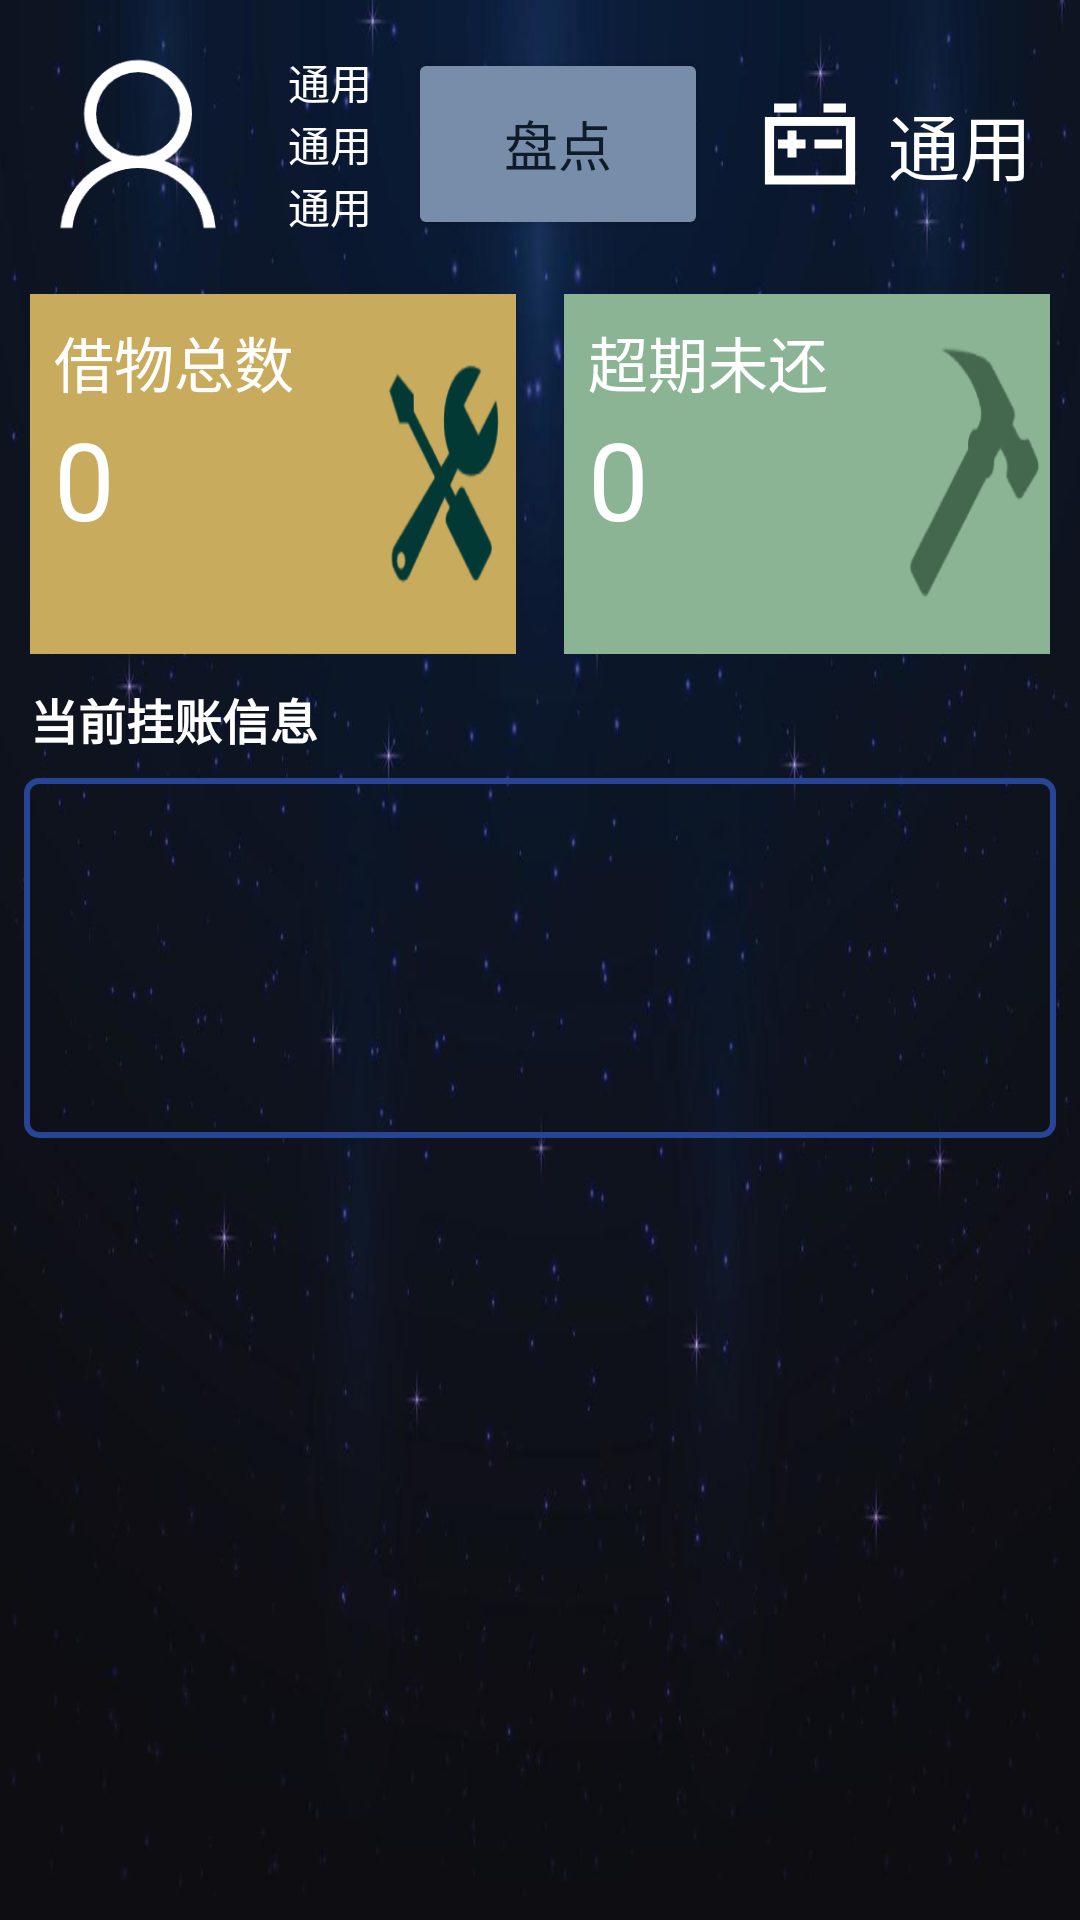

Icons on this 1080 x 1920 Android screen, each with the point to tap as [x,y]:
battery: [810,142]
user: [147,144]
